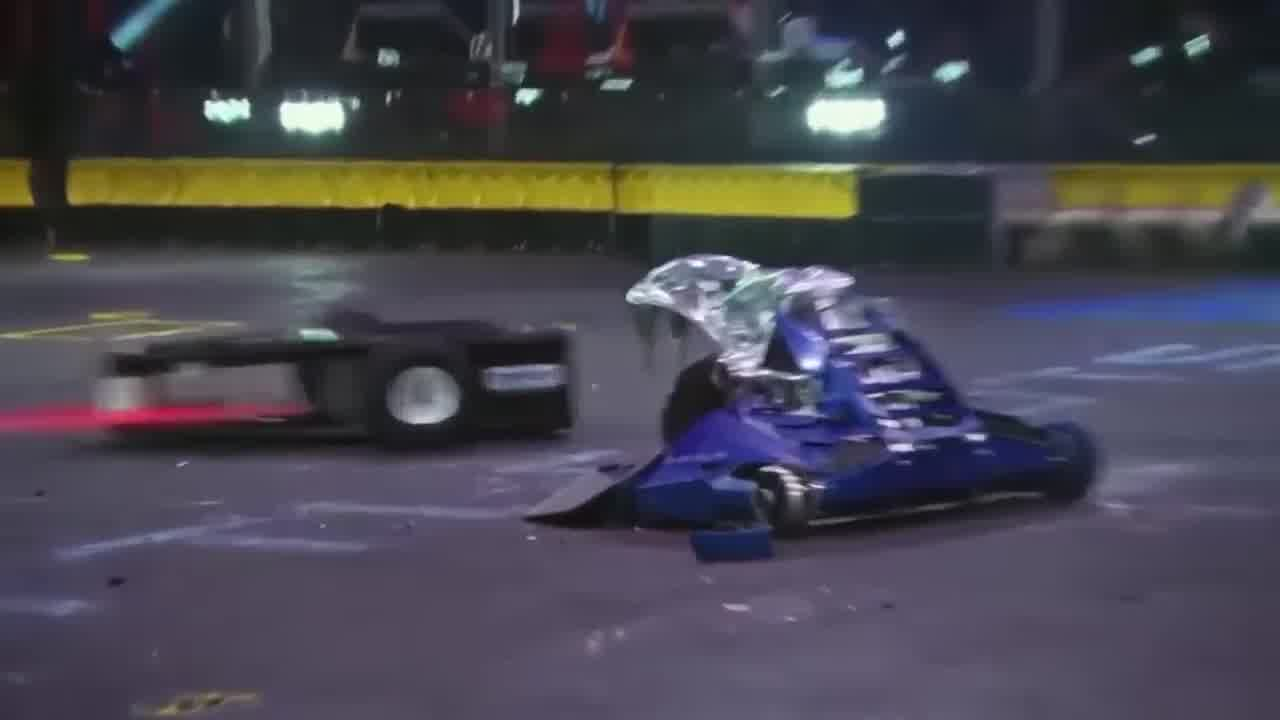combatbot: (524, 257, 1102, 561), (95, 319, 580, 419)
